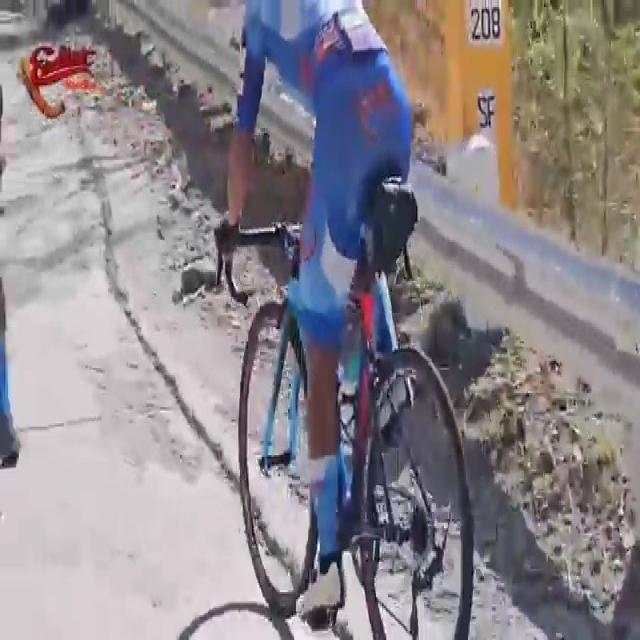bike: (201, 0, 478, 640)
